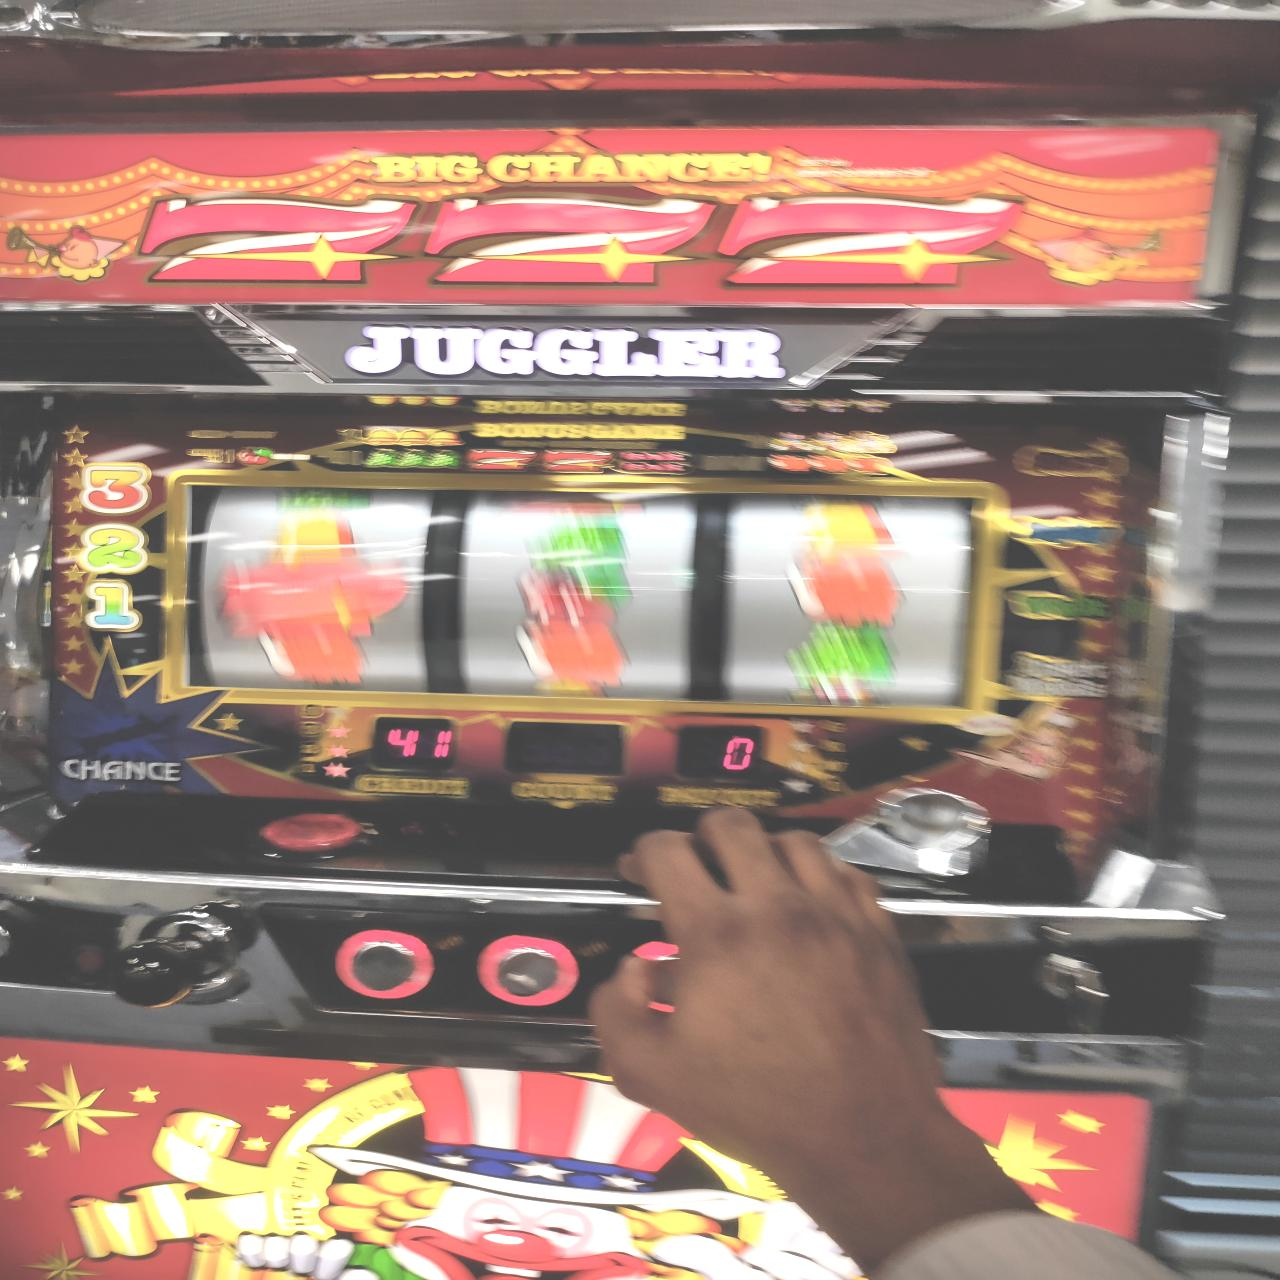rhino: (183, 479, 989, 714)
